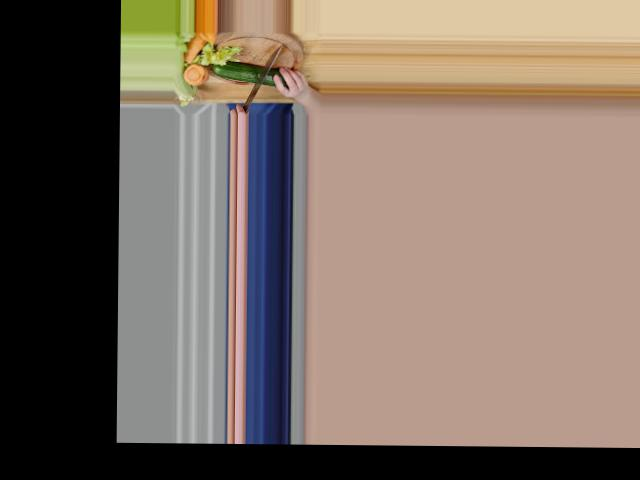cucumber: (210, 61, 288, 86)
